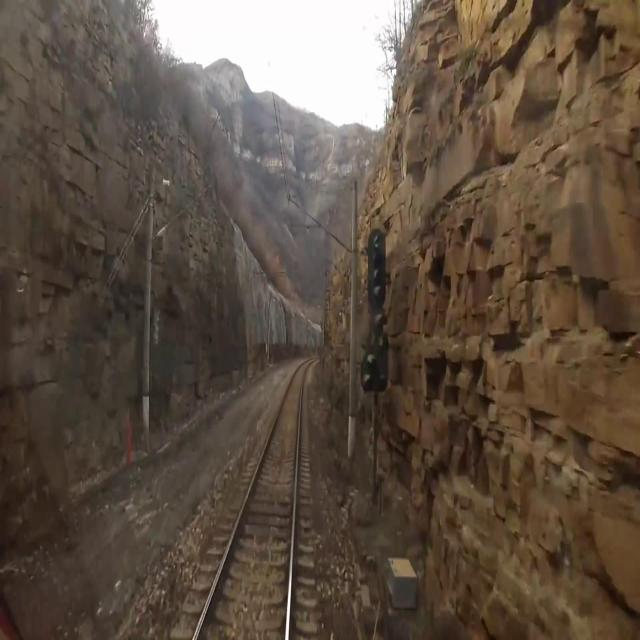rail-track: (197, 364, 305, 639)
